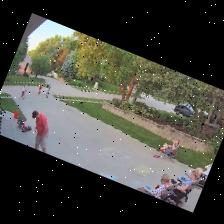person: (32, 111, 47, 152), (145, 174, 169, 195), (153, 140, 178, 157), (177, 170, 198, 190), (194, 164, 211, 174), (19, 86, 24, 98), (37, 83, 41, 95), (45, 85, 49, 96), (23, 84, 25, 98)
